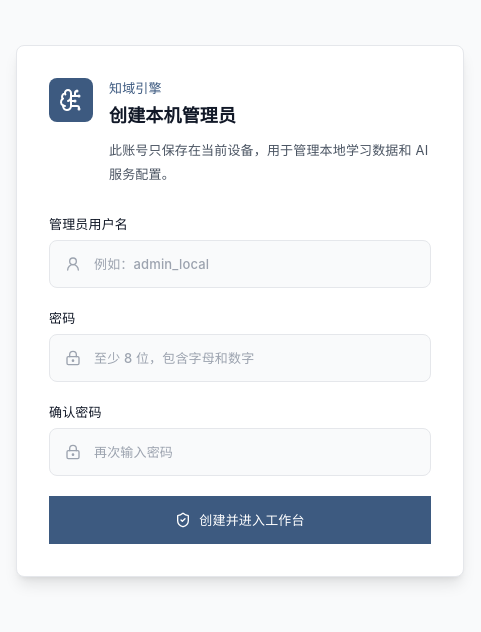
Scenario: DesktopBootstrap › shows a focused validation error before contacting the desktop API
The width and height of the screenshot is (481, 632).
Type "ab" into the field labelled "管理员用户名" at (240, 264), box x1=49 y1=240 x2=431 y2=288
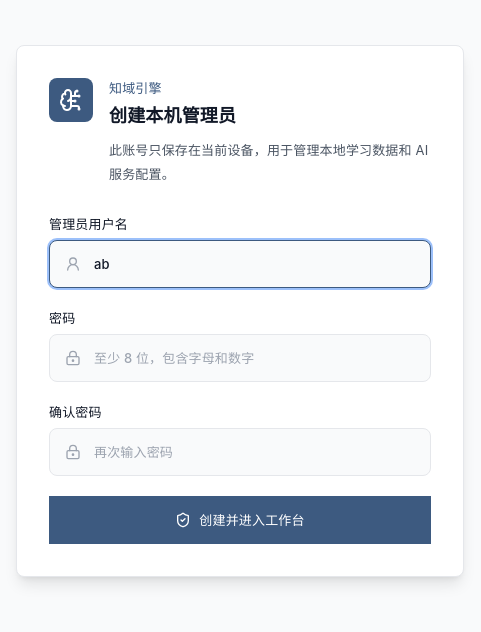
Click the button "创建并进入工作台" at (240, 520), box x1=49 y1=496 x2=431 y2=544
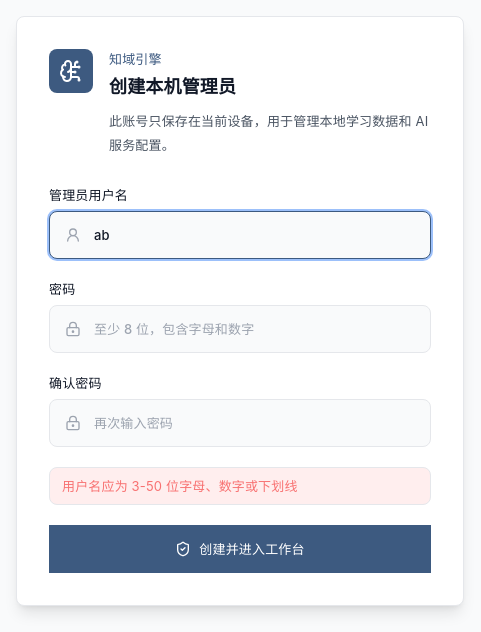
Now the message reads "用户名应为 3-50 位字母、数字或下划线", box x1=62 y1=478 x2=298 y2=494
